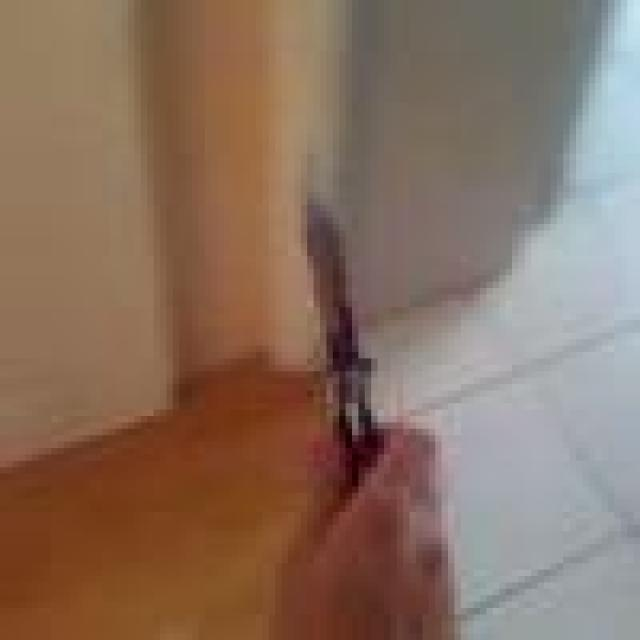faca: (243, 141, 499, 640)
